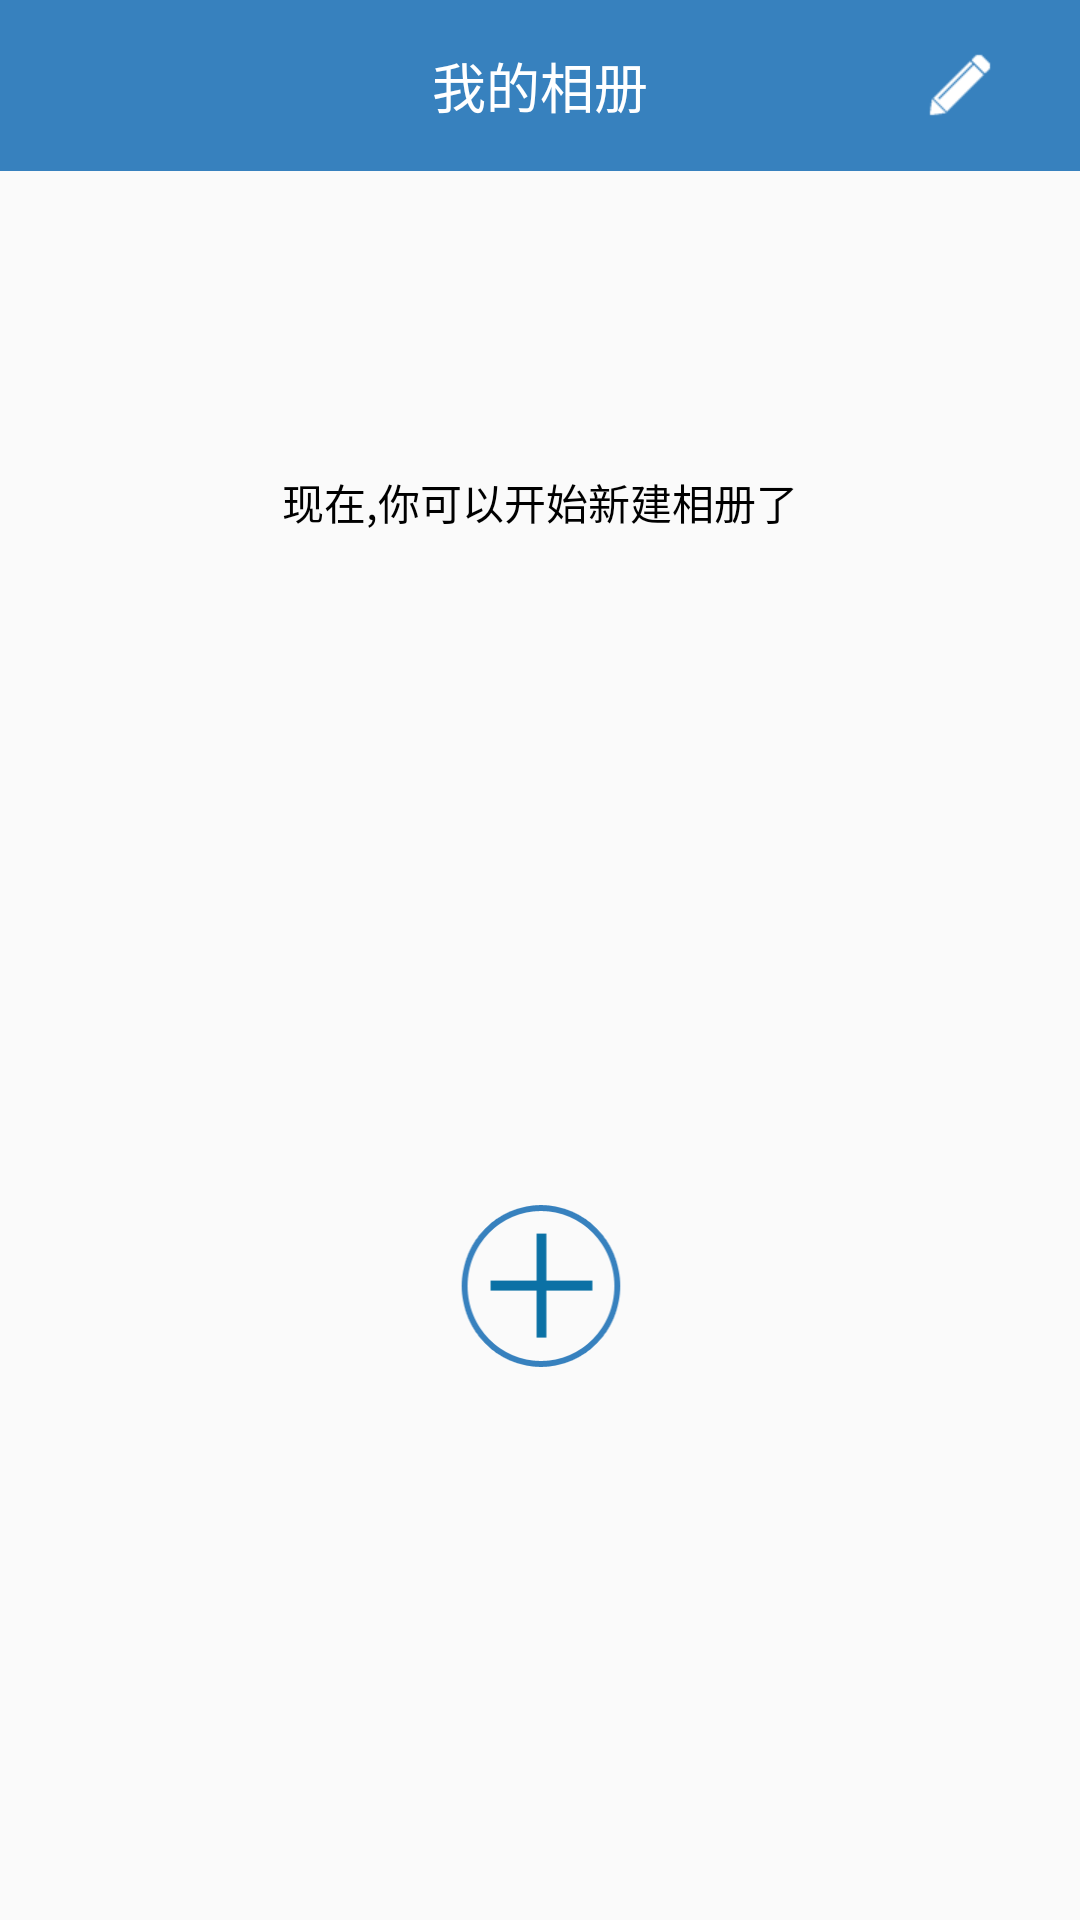

Point at icon controls on the screen. Image size 1080 × 1920, points as point (x, y).
edit: point (960, 85)
